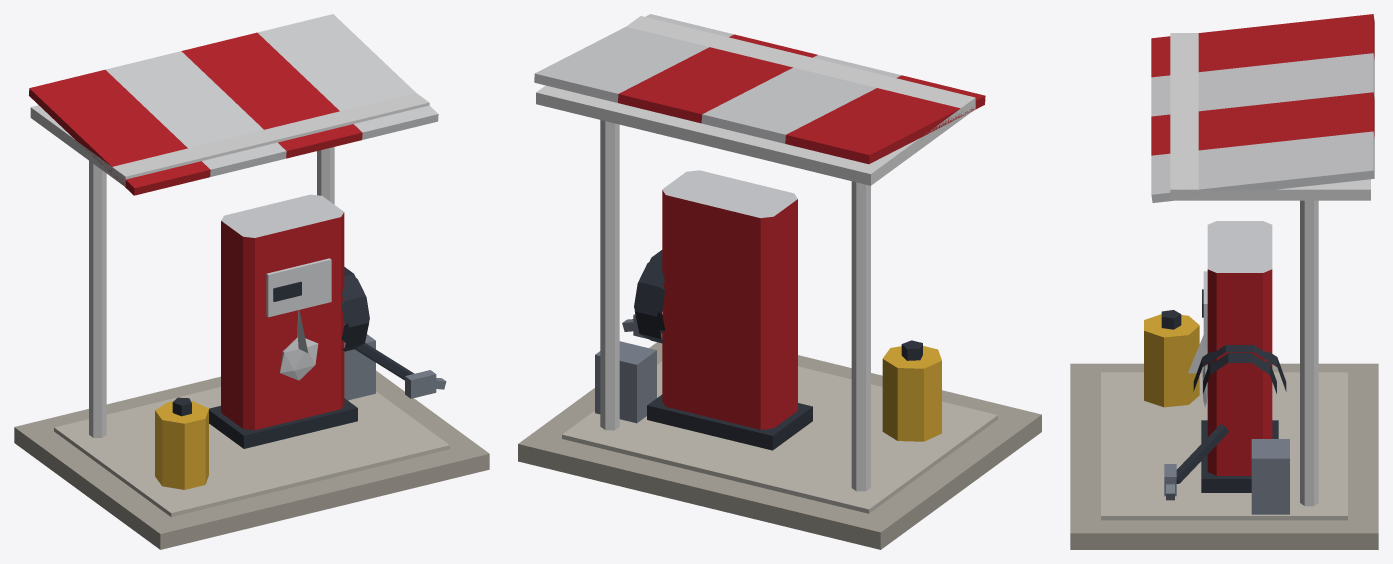
The model's file is fuel_pump.glb.
3 views of the same model, side by side, from view 1: azimuth 30°, elevation 25°; view 2: azimuth 150°, elevation 25°; view 3: azimuth 270°, elevation 25° (orthographic). The views are drawn at different scales.
Visible parts, largest first — view 1: fuel_pump; view 2: fuel_pump; view 3: fuel_pump.
Boxes of the visible parts, x1,y1,x2,y2 form: fuel_pump: [14, 14, 489, 549]; fuel_pump: [518, 14, 1041, 549]; fuel_pump: [1070, 14, 1378, 549].
Bounding box in the file's own units: 2.62 × 2.67 × 2.
